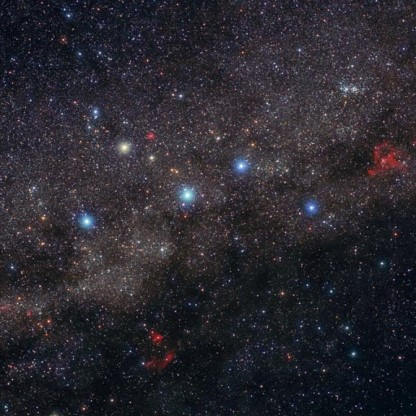Cassiopeia: (171, 179, 208, 218), (223, 146, 254, 179), (295, 192, 325, 224), (67, 208, 101, 235), (109, 134, 135, 158)
